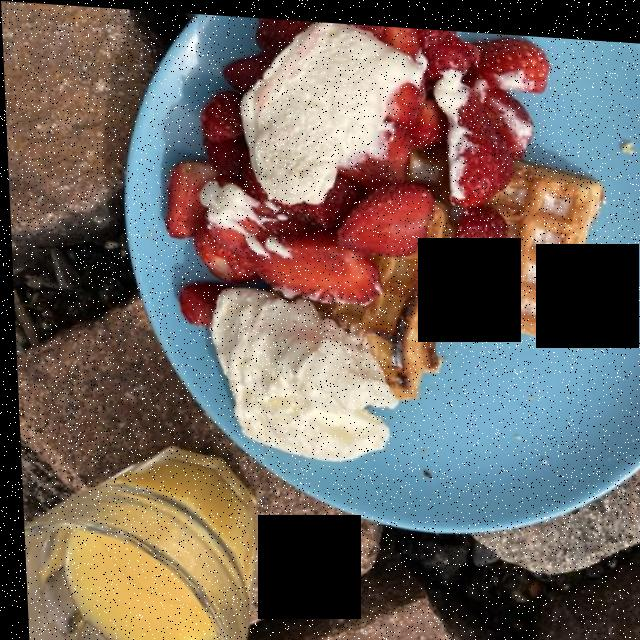cream: (186, 26, 421, 454)
juice-orange: (46, 444, 249, 640)
strawberries: (169, 18, 554, 318)
